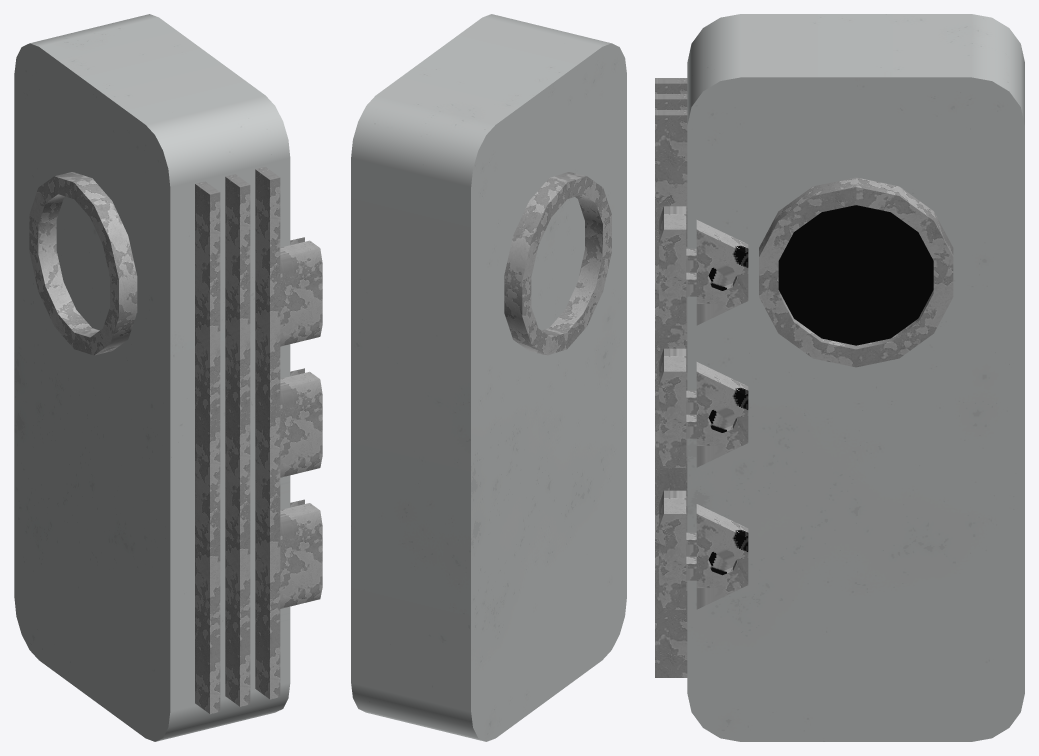
File: door_textured.fbx
3 renders of one model, left to right at view 1: azimuth 30°, elevation 25°; view 2: azimuth 150°, elevation 25°; view 3: azimuth 270°, elevation 25°, orthographic. The views are drawn at different scales.
Parts seen in each view (by area): view 1: polySurface20; view 2: polySurface20; view 3: polySurface20.
Part boxes in pixels (x1,y1,x2,y2): polySurface20: (14,14,322,741); polySurface20: (351,14,626,741); polySurface20: (655,14,1024,741).
Size of the model in its own units: 26.61 by 99.13 by 50.
Materials: 2 (2 with a texture image).
